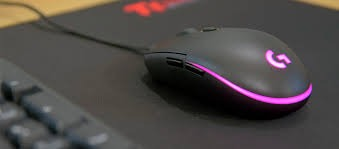mouse: (128, 23, 327, 125)
